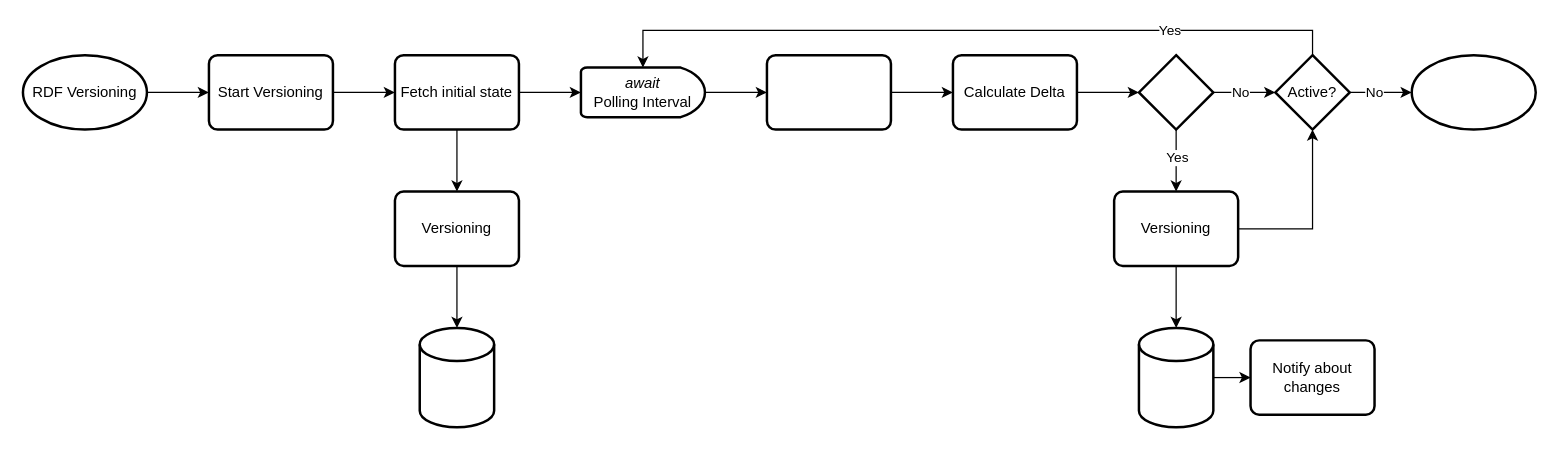
Some shapes in this 1557 by 450 pixel diagram are drawn without their labels. The shapes that lost their labels are listed below. From the top down, each one's centre as x and y in pixels, then its label:
the point at 828,91: Poll state
the point at 1175,91: Delta?
the point at 1473,91: Stop Versioning
the point at 456,377: Save Initial Version
the point at 1175,377: Save Updates
